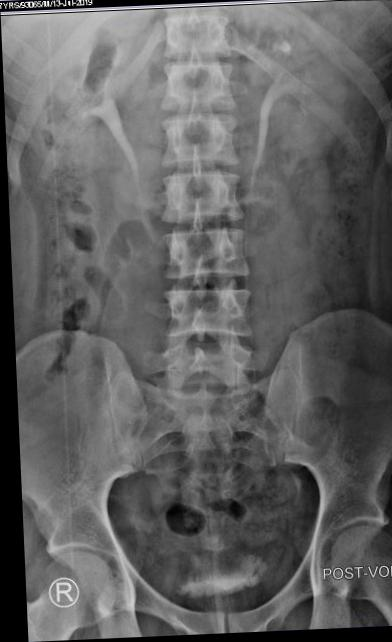left kidney: (257, 0, 362, 168)
vertebrae: (159, 53, 241, 111)
